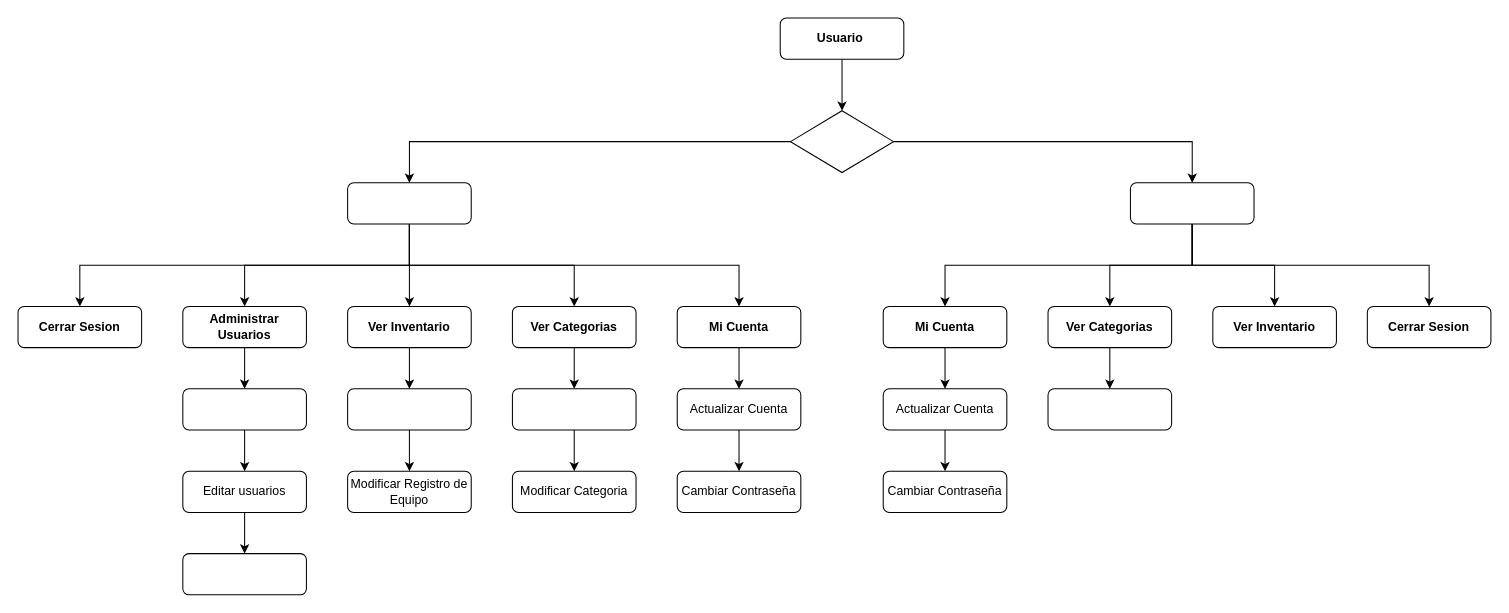
The diagram is 1509 pixels wide and 613 high, and some of its shapes have lost their labels. Here are the shapes that lost their labels. From the top down, the centre of each, then its label:
At (x=841, y=141): "Inicia Sesion".
At (x=409, y=203): "Usuario Administrador".
At (x=1191, y=203): "Usuario Colaborador".
At (x=244, y=409): "Crear usuarios".
At (x=409, y=409): "Agregar Registro de Equipo".
At (x=573, y=409): "Crear Categoria".
At (x=1109, y=409): "Ver Equipos por Categorías".
At (x=244, y=574): "Eliminar usuarios".
